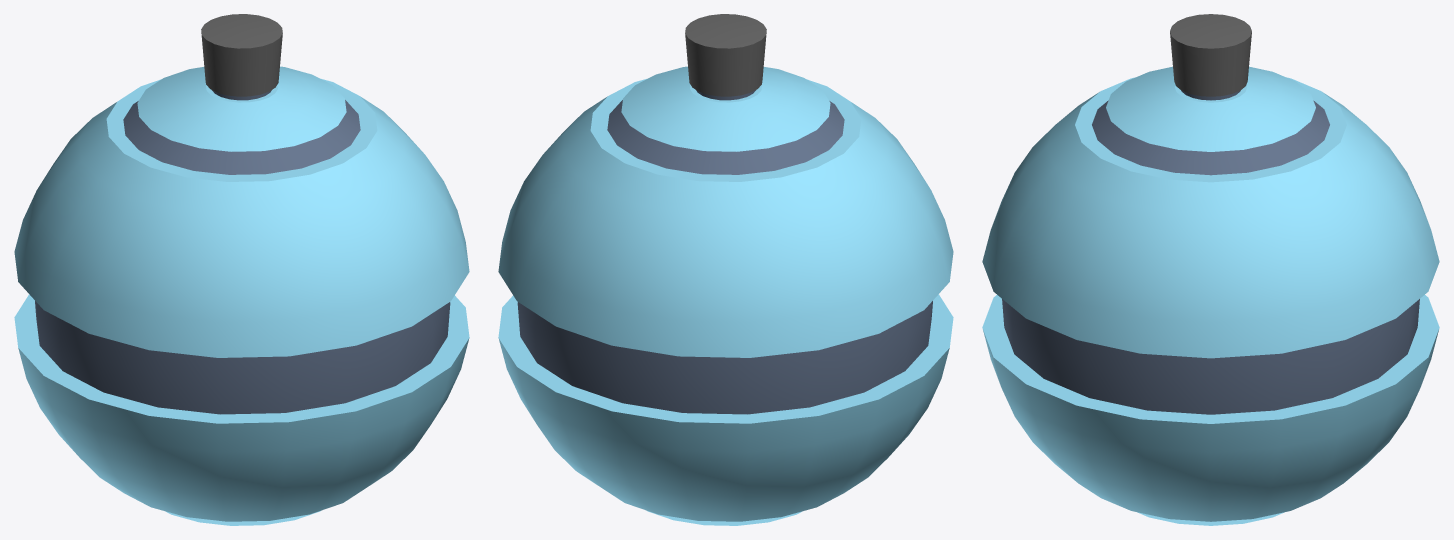
Rendered from Hydrogen bomb.fbx.
The picture shows the model from 3 angles, left to right: view 1: azimuth 30°, elevation 25°; view 2: azimuth 150°, elevation 25°; view 3: azimuth 270°, elevation 25°; orthographic projection.
Visible parts, largest first — view 1: Hydrogen_bomb; view 2: Hydrogen_bomb; view 3: Hydrogen_bomb.
Boxes of the visible parts, x1=… form: Hydrogen_bomb: x1=14, y1=14, x2=469, y2=525; Hydrogen_bomb: x1=498, y1=14, x2=953, y2=525; Hydrogen_bomb: x1=982, y1=14, x2=1439, y2=525.
Size of the model in its own units: 1.72 by 1.98 by 1.72.
